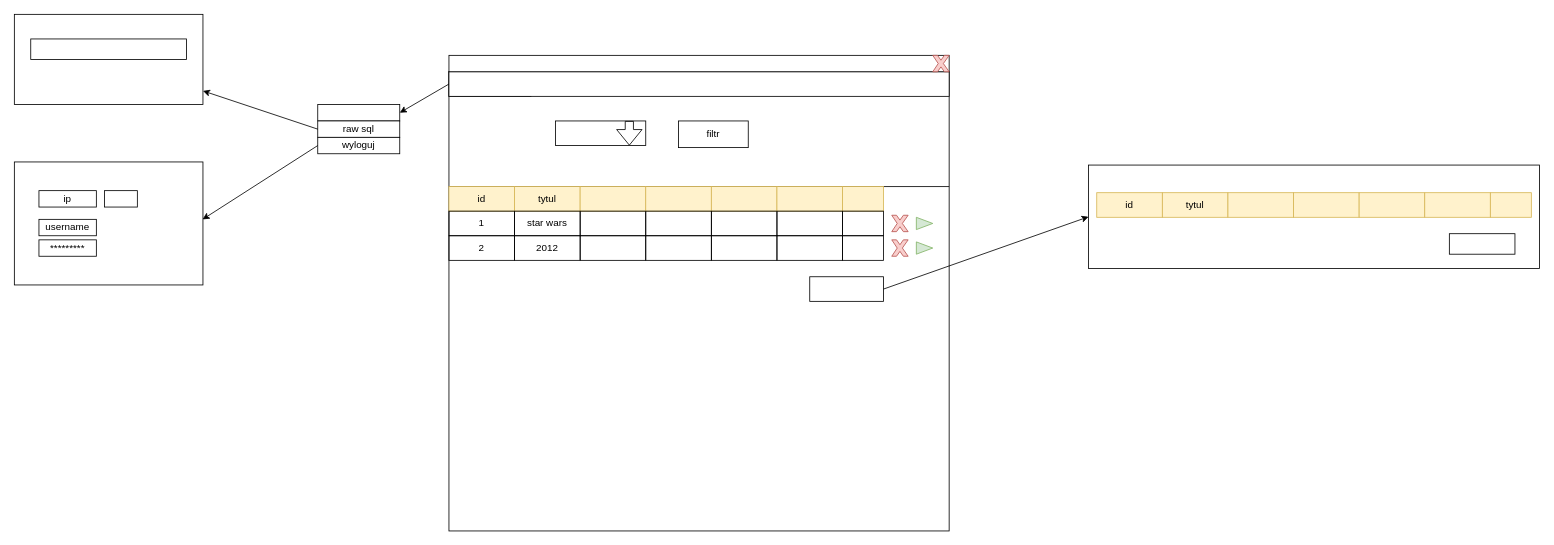
Image size: 1554x545. Some labels were removed from this diagram. Here are the shapes that lost their labels. From the top down, the centre of each, then its label:
At point 108,48: "adsasdasdas".
At point 358,112: "zmien tabele".
At point 600,133: "nazwa_tabeli".
At point 120,198: "port".
At point 1482,243: "dodaj".
At point 846,288: "dodaj rekord".
